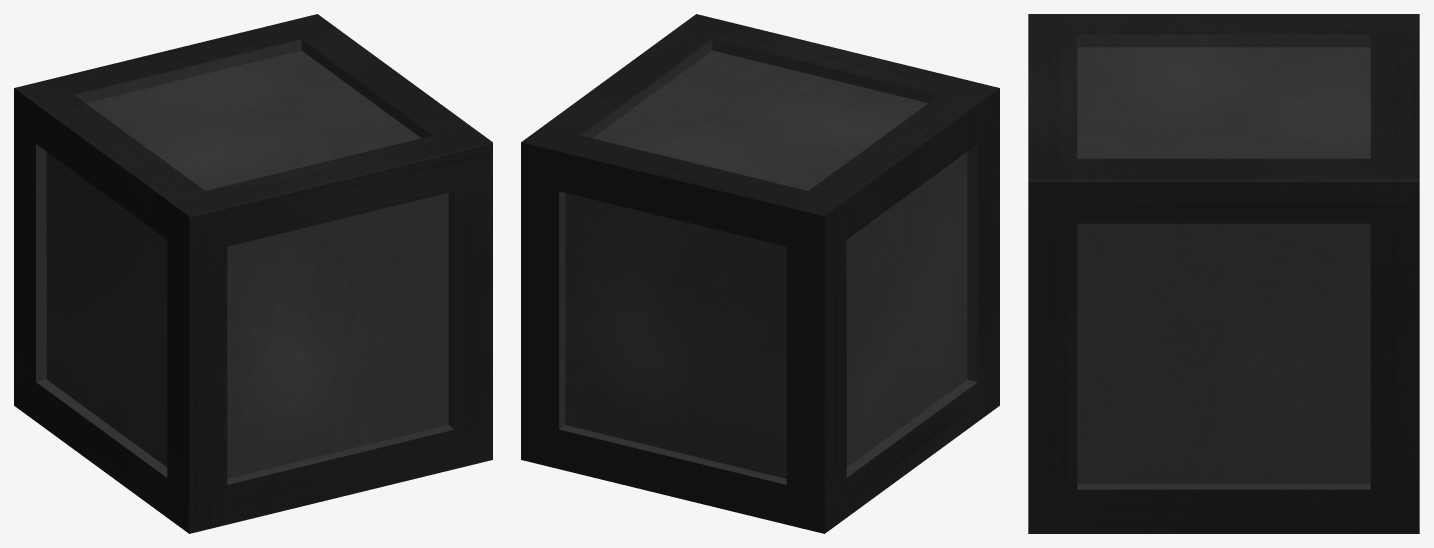
The model's file is Blocker.fbx.
3 renders of one model, left to right at view 1: azimuth 30°, elevation 25°; view 2: azimuth 150°, elevation 25°; view 3: azimuth 270°, elevation 25°, orthographic. The views are drawn at different scales.
Parts seen in each view (by area): view 1: pCube1; view 2: pCube1; view 3: pCube1.
Boxes of the visible parts, left/top/right/bottom form: pCube1: left=14, top=14, right=492, bottom=533; pCube1: left=521, top=14, right=999, bottom=533; pCube1: left=1028, top=14, right=1419, bottom=533.
Bounding box in the file's own units: 2 × 2 × 2.
